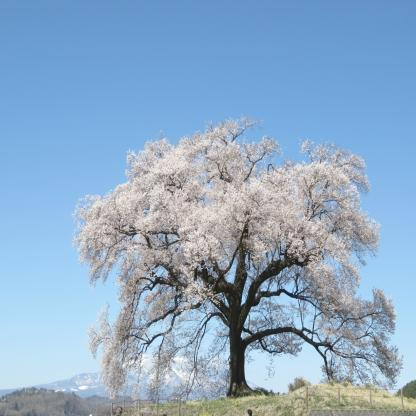EdohiganSakura: (71, 114, 404, 399)
